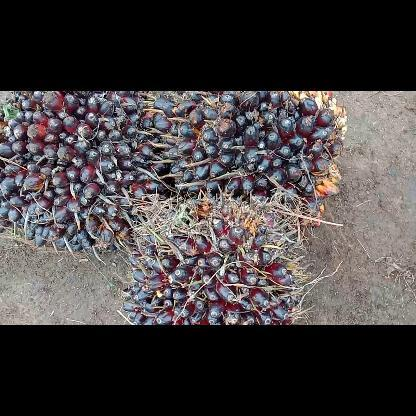TBS mentah: (0, 90, 173, 254), (150, 90, 350, 228), (121, 196, 310, 324)
